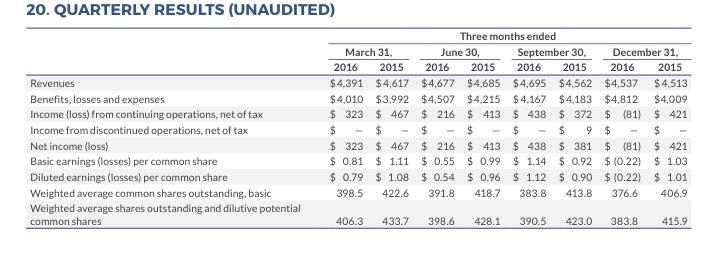table: (29, 28, 686, 225)
table column: (29, 28, 314, 225), (314, 28, 368, 225), (597, 28, 646, 225), (368, 28, 414, 225), (459, 28, 505, 225), (505, 28, 551, 225), (551, 28, 597, 225), (414, 28, 459, 225), (646, 28, 686, 225)
table column header: (29, 28, 686, 74)
table row: (29, 199, 686, 225), (29, 42, 686, 58), (29, 58, 686, 74), (29, 89, 686, 105), (29, 105, 686, 121), (29, 136, 686, 152), (29, 152, 686, 168), (29, 183, 686, 199), (29, 74, 686, 89), (29, 121, 686, 136), (29, 168, 686, 183), (29, 28, 686, 42)
table spanning cell: (314, 28, 686, 42), (314, 42, 414, 58), (505, 42, 597, 58), (414, 42, 505, 58), (597, 42, 686, 58)
